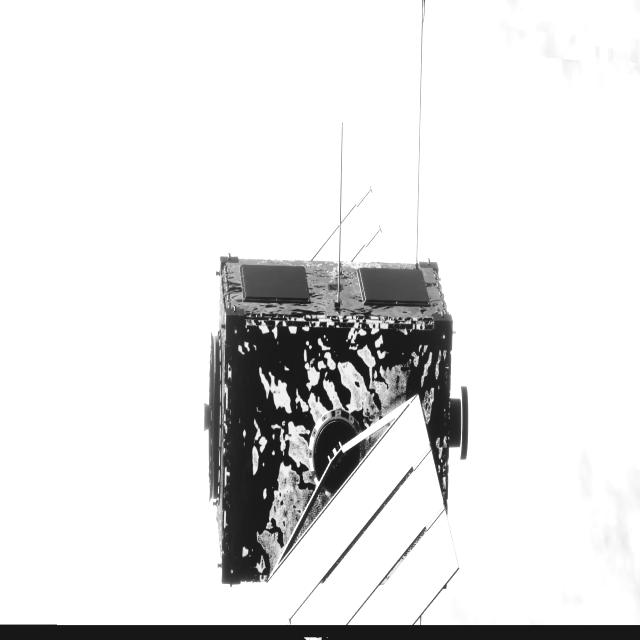satellite: (209, 127, 459, 625)
